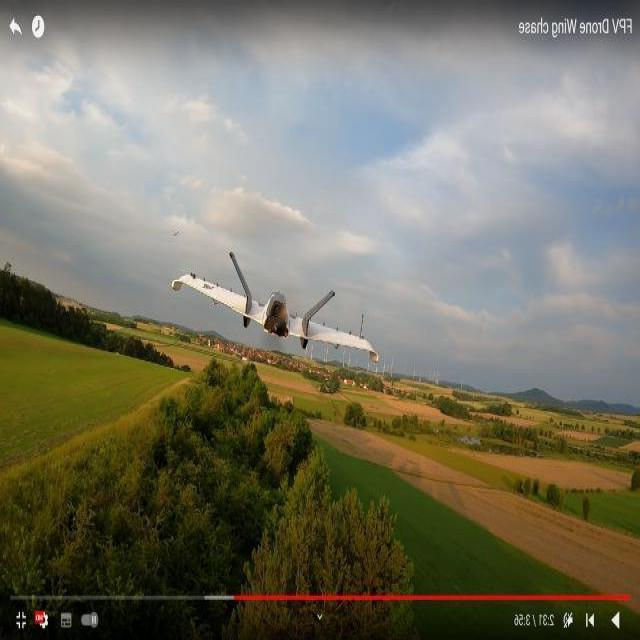UAV: (166, 262, 388, 382)
